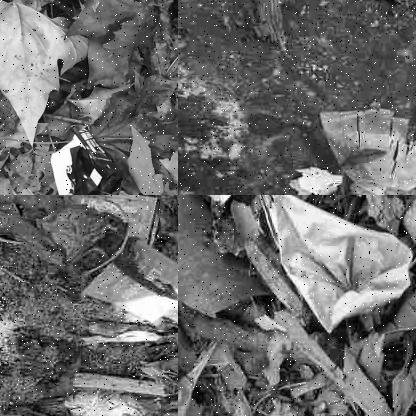plastic: (266, 195, 415, 333), (310, 103, 415, 194), (82, 259, 177, 327), (45, 123, 123, 194), (66, 195, 158, 246)
